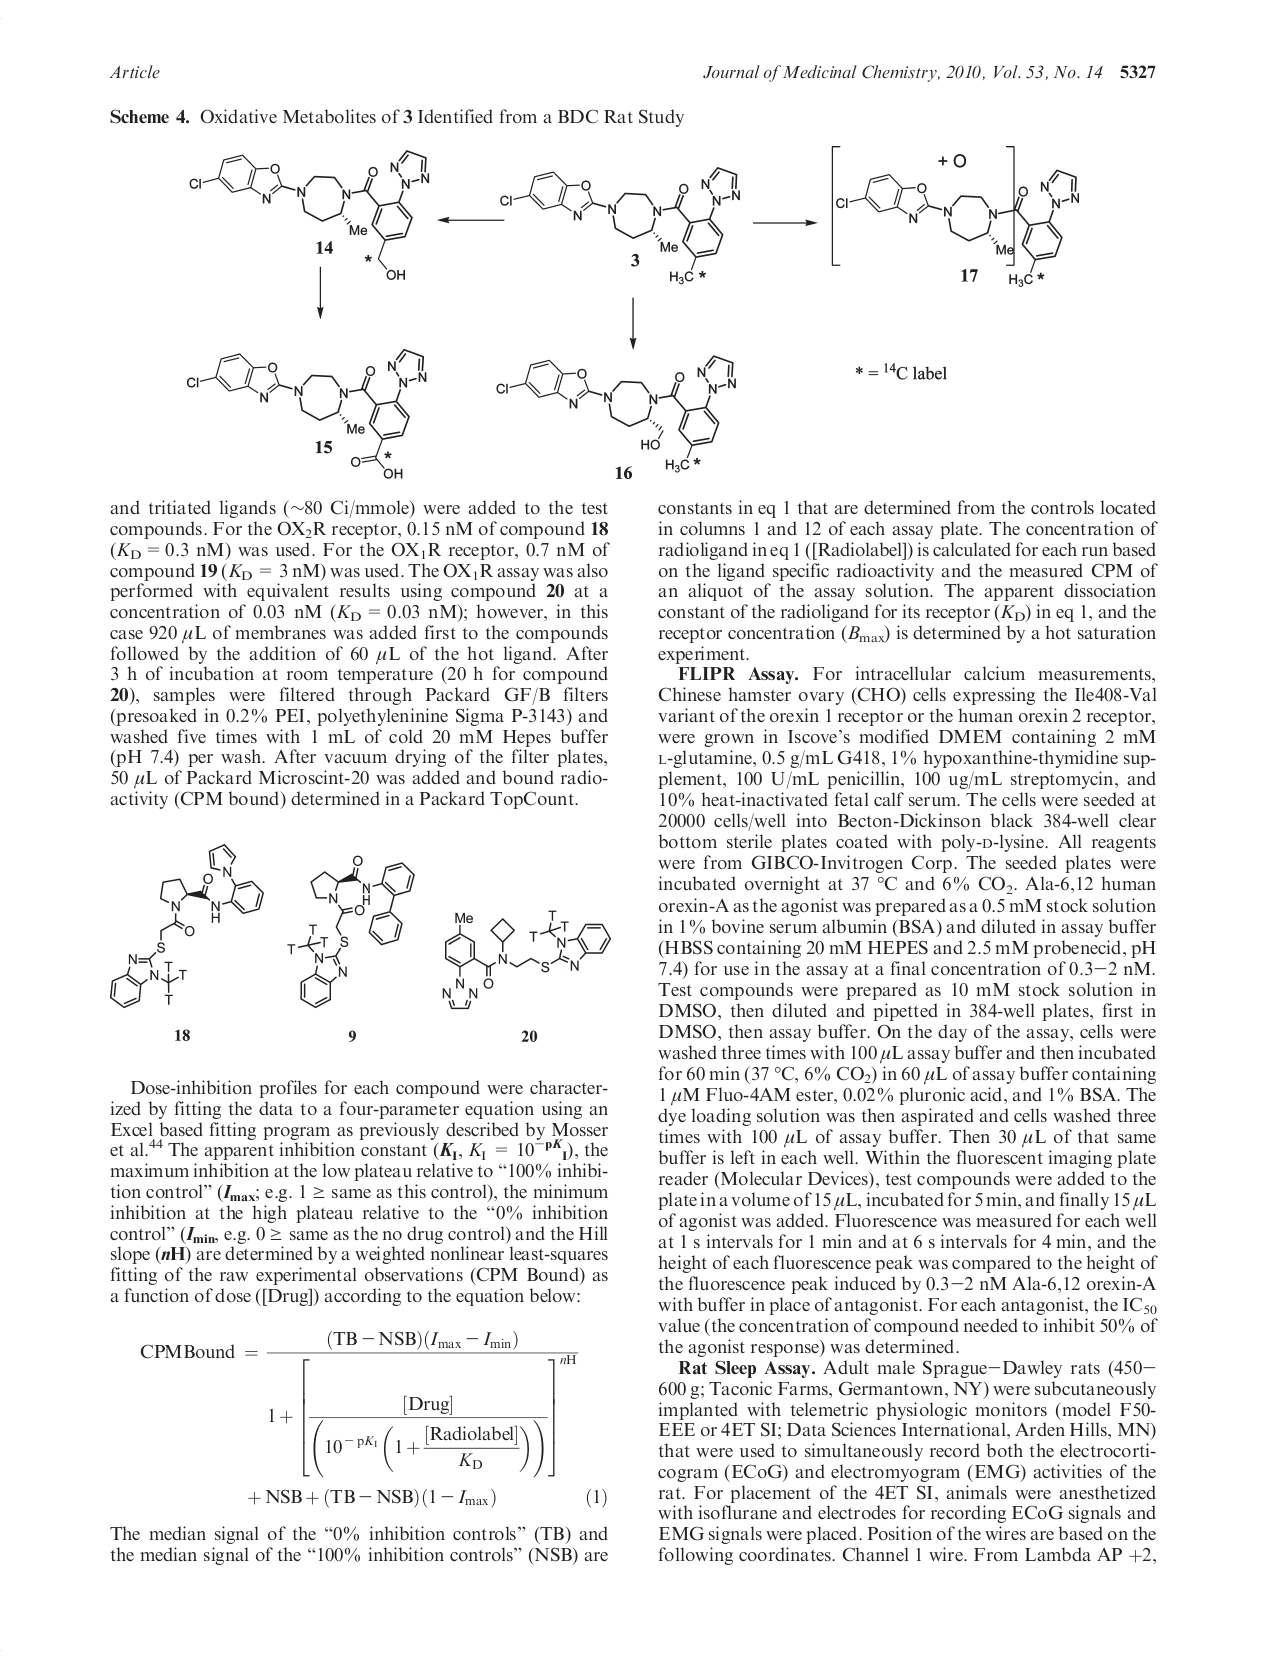exist_molecular: (186, 346, 430, 483), (188, 148, 432, 283), (497, 164, 743, 286), (834, 166, 1082, 287), (493, 352, 739, 473), (108, 840, 266, 1009), (287, 854, 418, 1009), (442, 908, 614, 1011)
